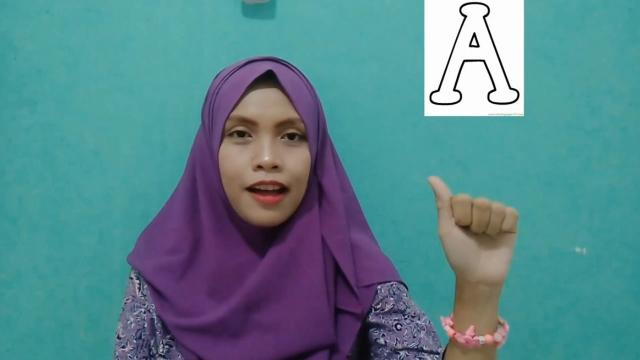A: (426, 174, 520, 294)
